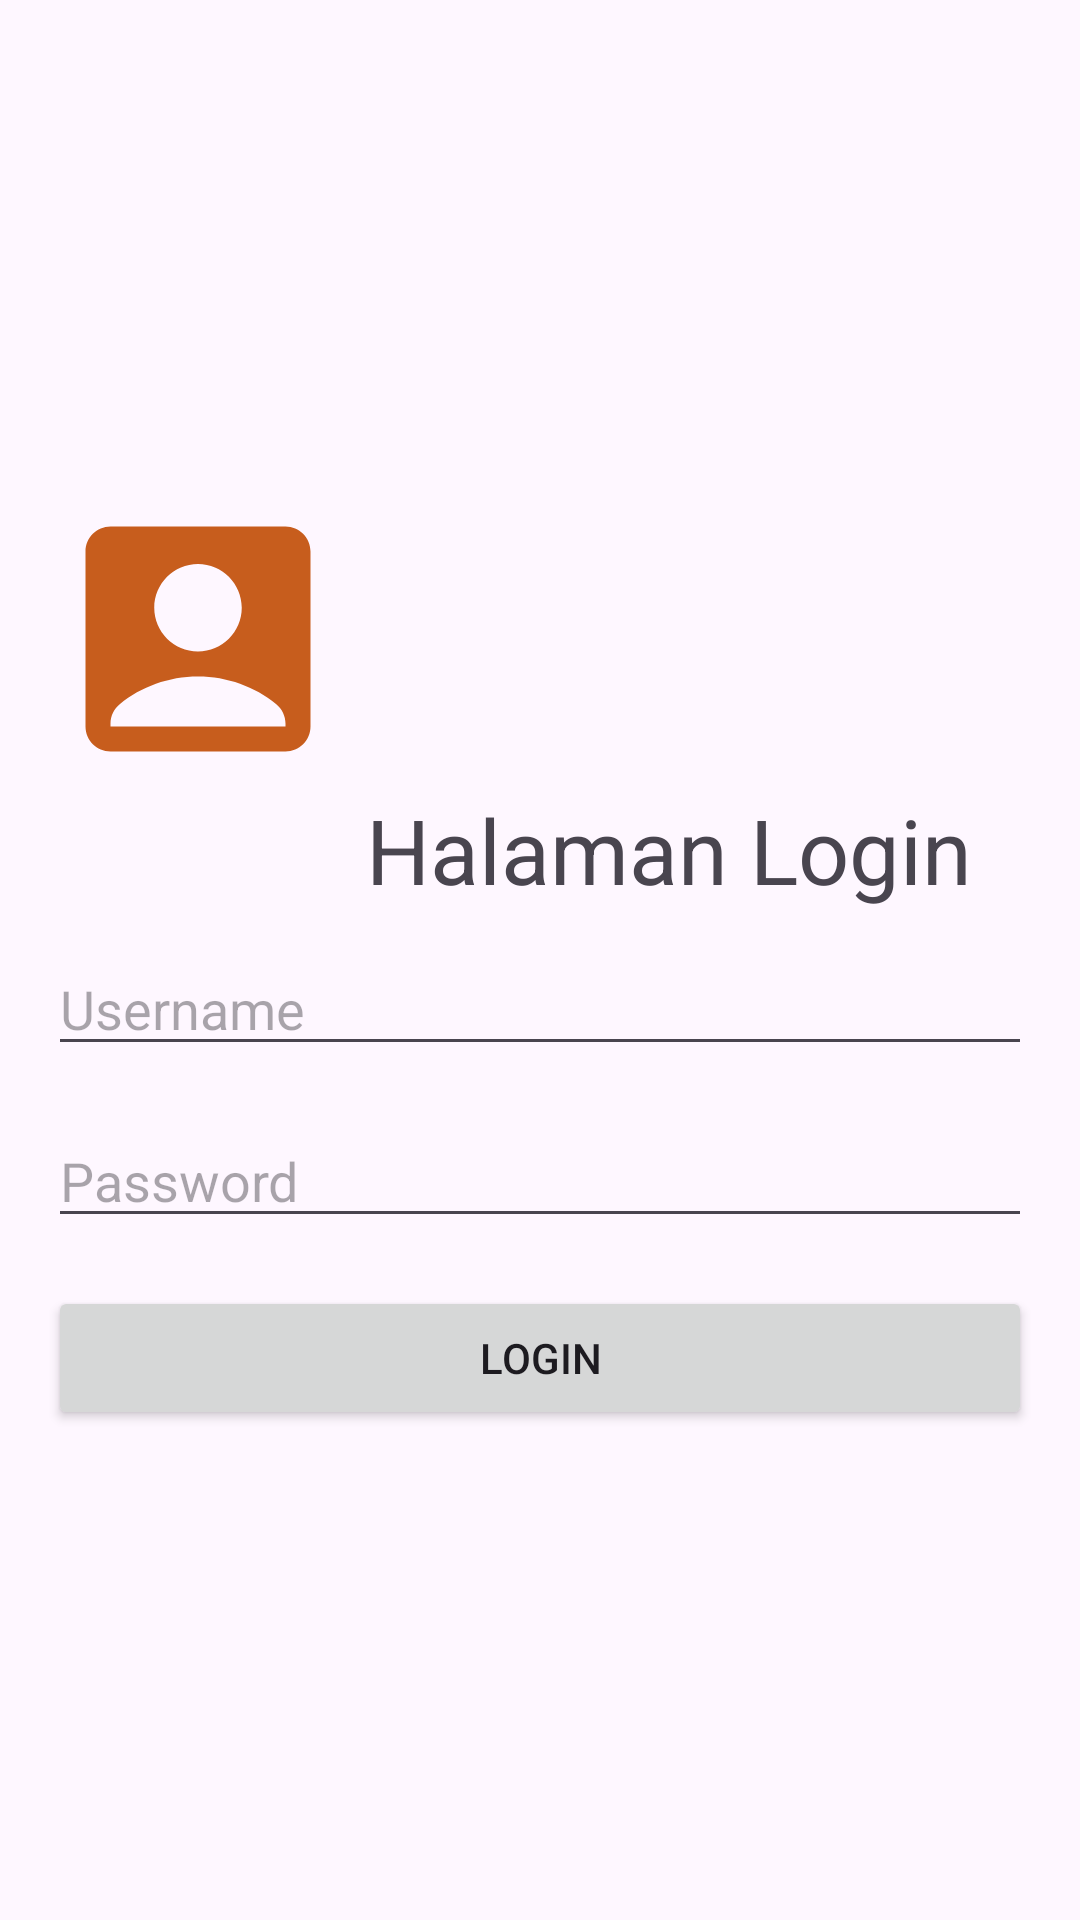

Icons on this 1080w x 1920h Android screen, each with its box as box=[x1, y1, x2, y2]:
account box: box=[85, 526, 311, 752]
